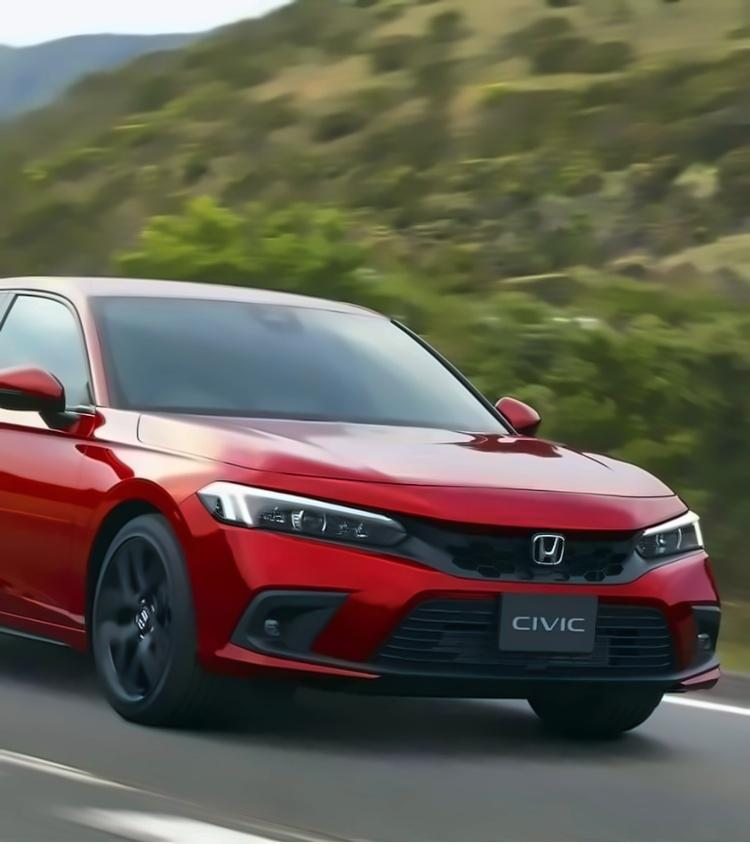Car hood: (119, 410, 680, 518)
Driver-s door - -F-R-: (0, 244, 99, 659)
Fender - -F-R-: (64, 384, 200, 634)
Front bumper: (163, 499, 730, 720)
Headlight - -R-: (187, 480, 410, 557)
Side bumper - -R-: (0, 567, 92, 666)
Side mirror - -L-: (483, 397, 546, 442)
Side mirror - -R-: (0, 362, 88, 443)
